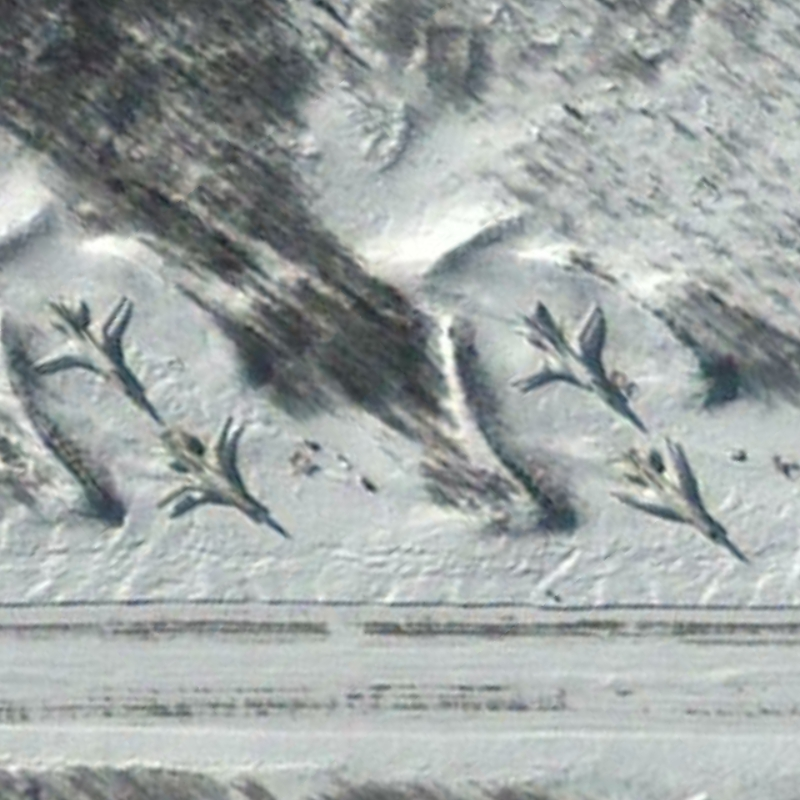A12: (506, 298, 647, 430), (605, 432, 744, 559), (149, 412, 285, 538), (28, 292, 158, 420)
